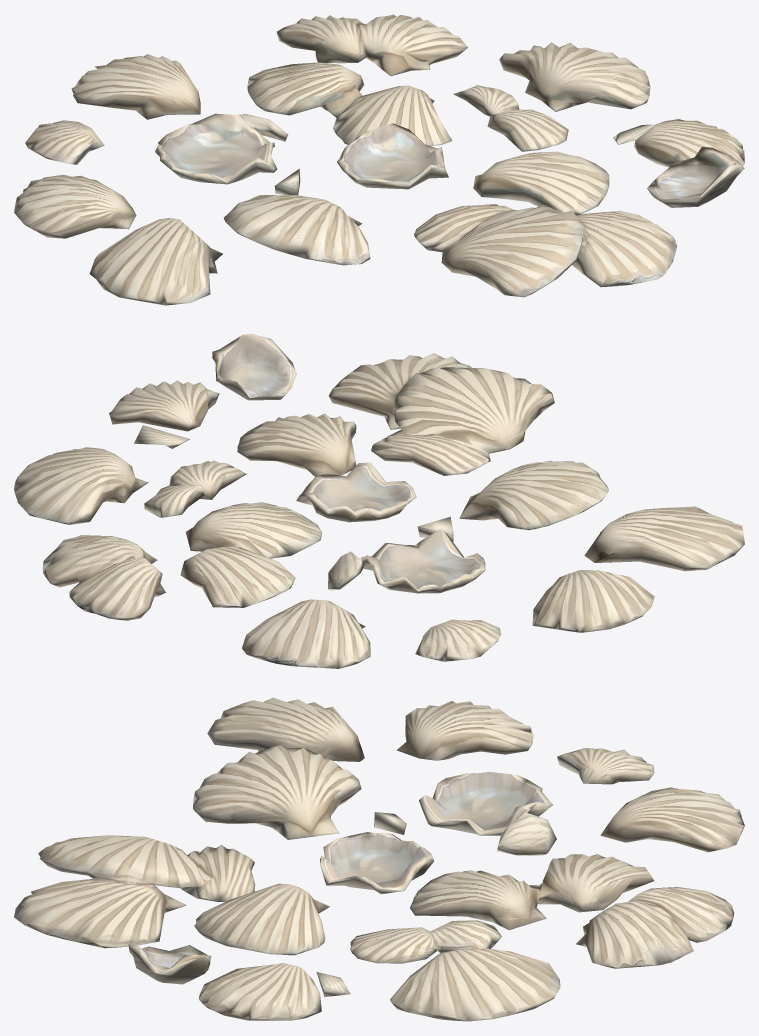
3 views of the same model, one above another, from view 1: azimuth 30°, elevation 25°; view 2: azimuth 150°, elevation 25°; view 3: azimuth 270°, elevation 25° (orthographic). The views are drawn at different scales.
Parts seen in each view (by area): view 1: Mesh_0; view 2: Mesh_0; view 3: Mesh_0.
Boxes of the visible parts, box(x1,y1,x2,y2) form: Mesh_0: box(14, 14, 744, 305); Mesh_0: box(14, 334, 744, 668); Mesh_0: box(14, 697, 744, 1021).
Bounding box in the file's own units: 1.91 × 0.1367 × 1.89.
Materials: 1 (1 with a texture image).
